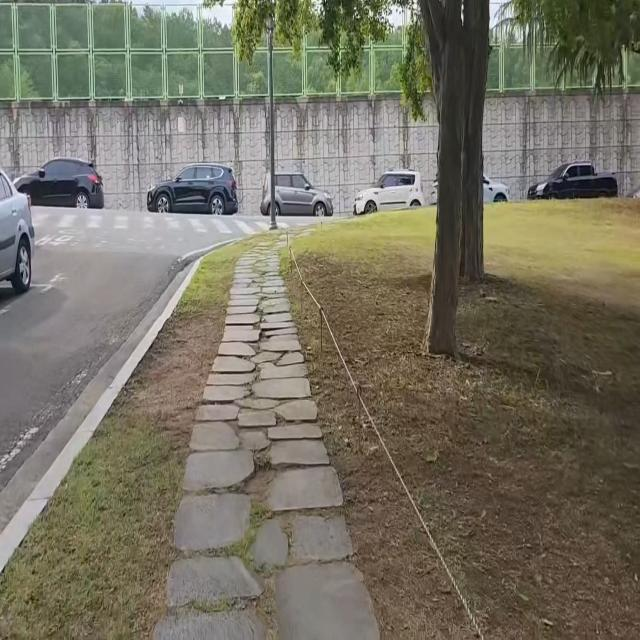obstacle: (9, 150, 108, 216), (140, 157, 240, 221), (0, 150, 38, 314), (254, 160, 336, 221)
road: (2, 206, 318, 533)
sidewalk: (162, 253, 381, 640)
